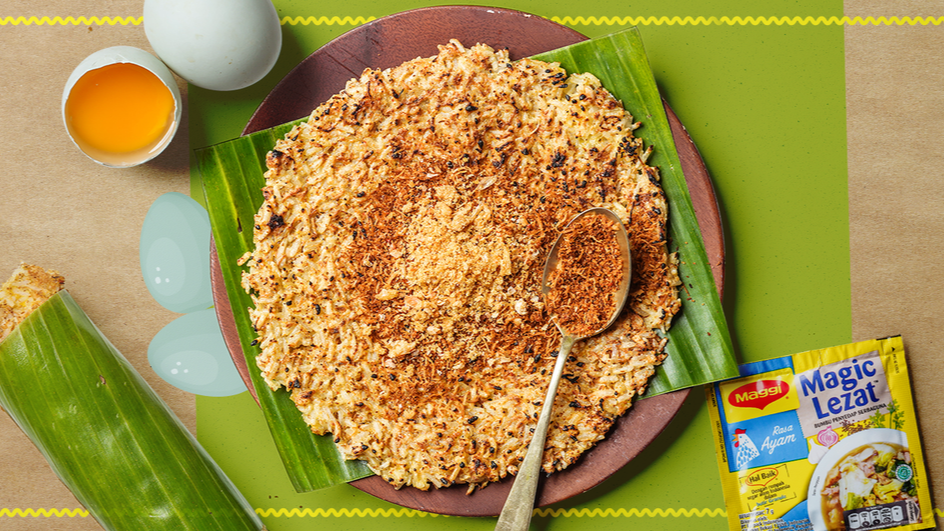kerak_telor: (250, 50, 682, 492)
